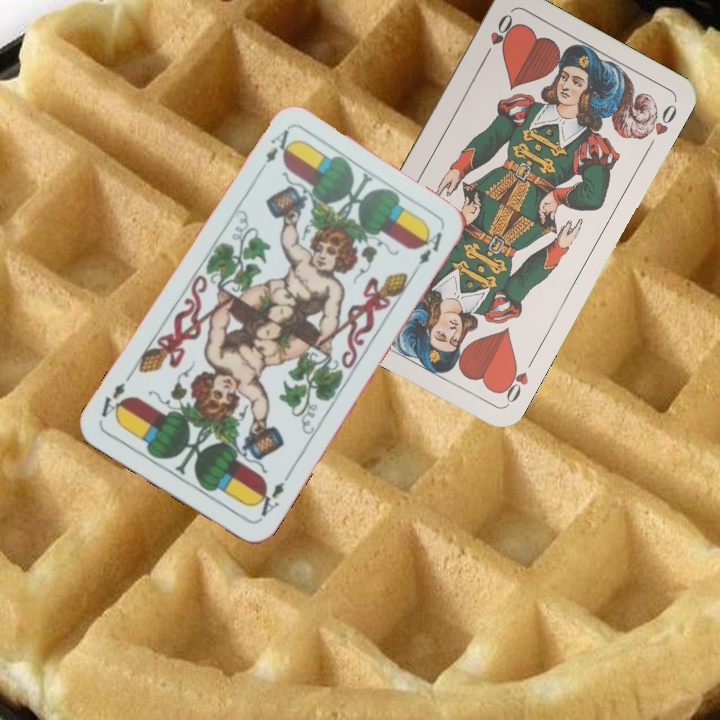EA: (250, 470, 293, 520), (253, 125, 294, 177)
HO: (495, 353, 538, 408), (479, 9, 518, 62)
